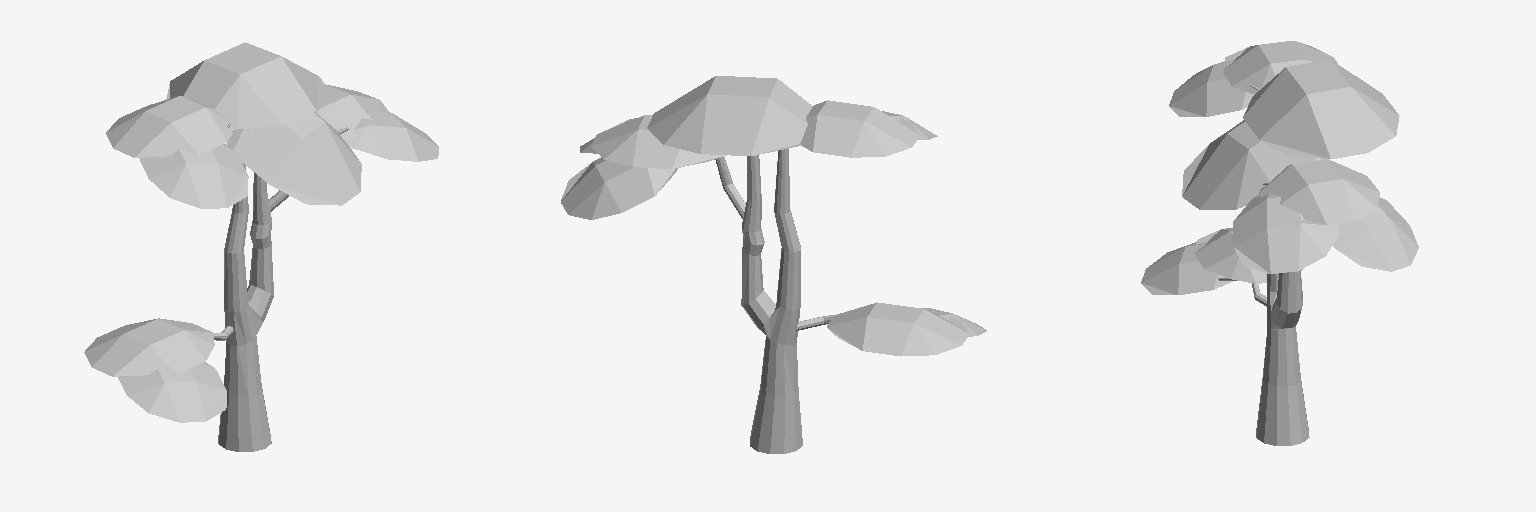
The model's file is bob2 tree.obj.
3 renders of one model, left to right at view 1: azimuth 30°, elevation 25°; view 2: azimuth 150°, elevation 25°; view 3: azimuth 270°, elevation 25°, orthographic.
Visible parts, largest first — view 1: YggTree3; view 2: YggTree3; view 3: YggTree3.
Boxes of the visible parts, box(x1,y1,x2,y2) form: YggTree3: box(84, 42, 438, 451); YggTree3: box(561, 76, 986, 453); YggTree3: box(1141, 41, 1418, 445).
Size of the model in its own units: 62.81 by 61.55 by 42.28.